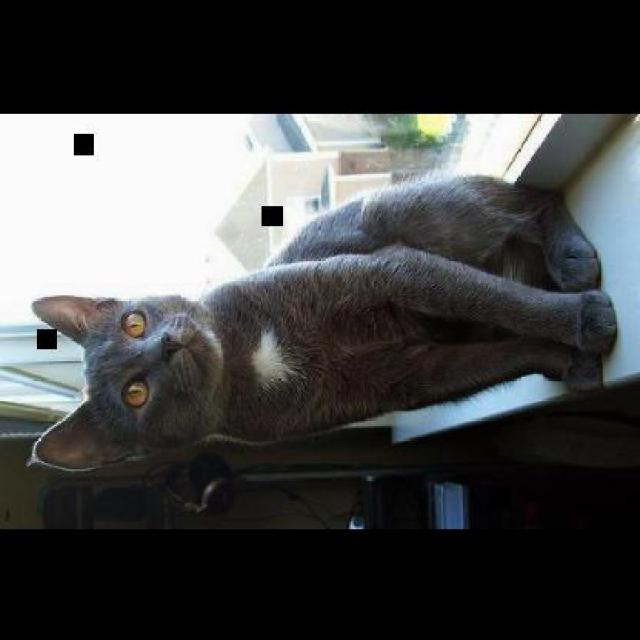unauthorized: (26, 171, 617, 472)
